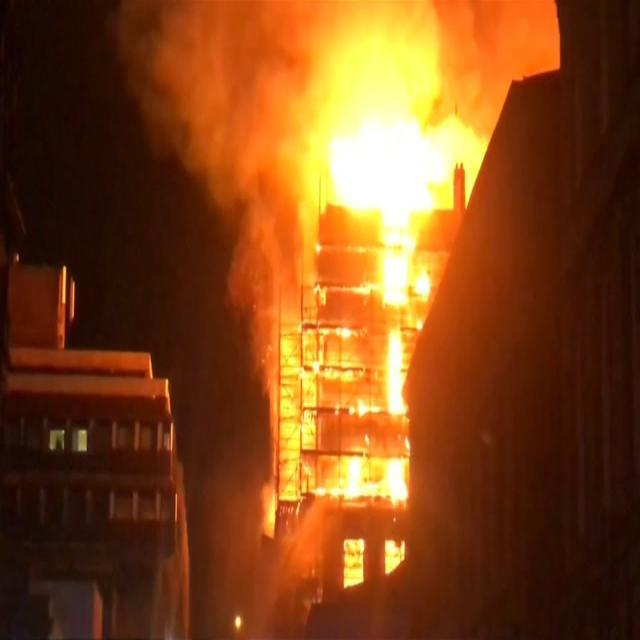Fire: (323, 102, 449, 242), (278, 323, 320, 504), (314, 448, 408, 504), (372, 243, 416, 309), (384, 324, 409, 418), (321, 353, 368, 380), (334, 397, 384, 418), (344, 536, 364, 586), (327, 280, 381, 296), (412, 261, 433, 302), (320, 322, 367, 339), (384, 538, 404, 574), (266, 489, 276, 532), (406, 310, 424, 332), (314, 280, 327, 308), (398, 432, 411, 458), (314, 243, 322, 254)
Smoke: (112, 0, 322, 245), (321, 0, 561, 100), (261, 507, 339, 607), (228, 247, 317, 321), (448, 101, 501, 211), (252, 318, 278, 472)
